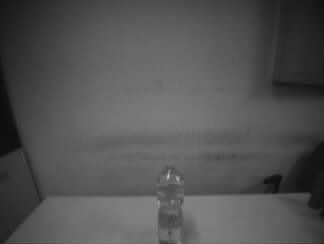Bottle: (155, 162, 185, 244)
